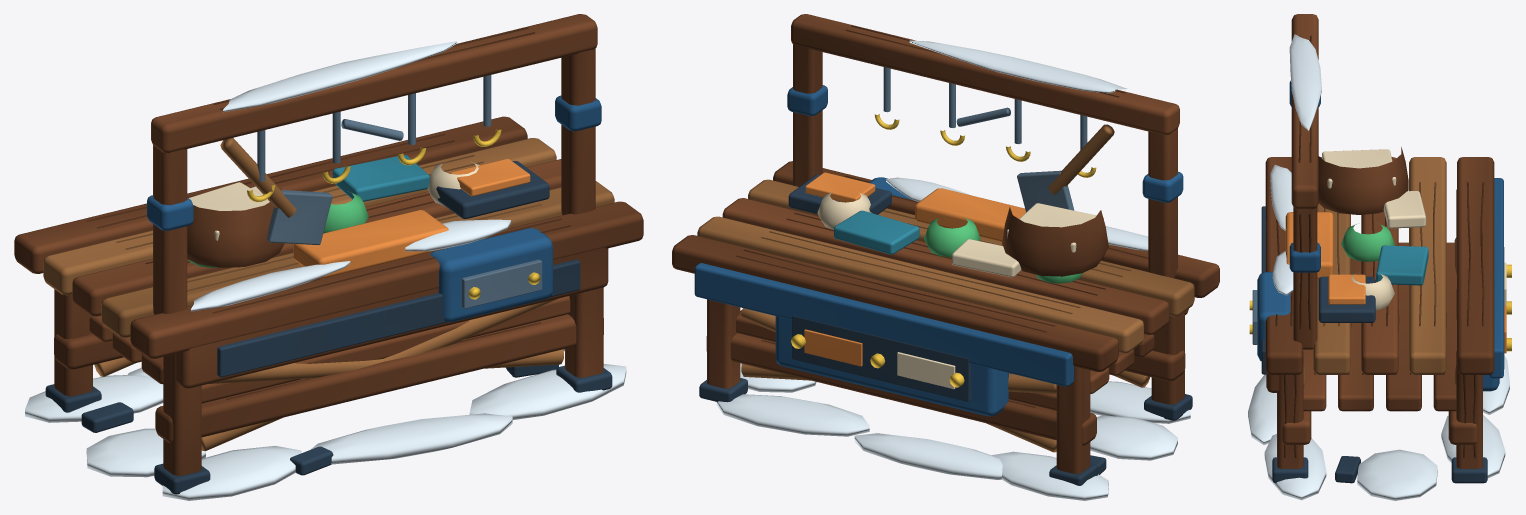
File: service_counter.glb
3 views of the same model, side by side, from view 1: azimuth 30°, elevation 25°; view 2: azimuth 150°, elevation 25°; view 3: azimuth 270°, elevation 25° (orthographic). The views are drawn at different scales.
Parts seen in each view (by area): view 1: service_counter; view 2: service_counter; view 3: service_counter.
Boxes of the visible parts, bbox=[...] form: service_counter: bbox=[14, 14, 643, 500]; service_counter: bbox=[672, 14, 1219, 500]; service_counter: bbox=[1248, 14, 1511, 500].
Size of the model in its own units: 3.2 by 2.32 by 1.77.
